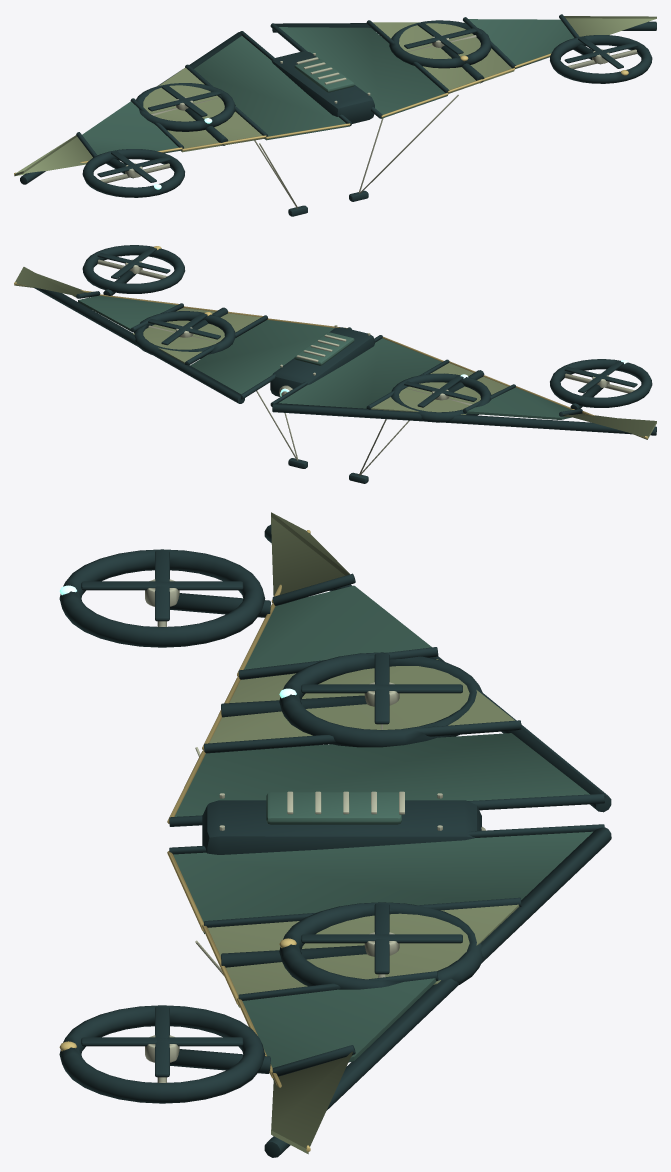
Rendered from kf-kestrel.glb.
3 renders of one model, top to bottom at view 1: azimuth 30°, elevation 25°; view 2: azimuth 150°, elevation 25°; view 3: azimuth 270°, elevation 25°, orthographic. The views are drawn at different scales.
Parts seen in each view (by area): view 1: Kestrel Kestrel paint, Kestrel Carbon frame, Kestrel Ripstop canopy, Kestrel Fasteners, Kestrel Caution stripe, Rotor_R_0 Carbon frame, Rotor_L_0 Carbon frame, Rotor_R_1 Carbon frame, Rotor_L_1 Carbon frame; view 2: Kestrel Carbon frame, Kestrel Kestrel paint, Kestrel Ripstop canopy, Kestrel Fasteners, Kestrel Caution stripe, Rotor_L_0 Carbon frame, Rotor_R_0 Carbon frame, Rotor_R_1 Carbon frame, Rotor_L_1 Carbon frame; view 3: Kestrel Kestrel paint, Kestrel Carbon frame, Kestrel Ripstop canopy, Kestrel Caution stripe, Rotor_L_0 Carbon frame, Rotor_R_0 Carbon frame, Rotor_L_1 Carbon frame, Rotor_R_1 Carbon frame, Kestrel Fasteners.
Part boxes in pixels (x1,y1,x2,y2): Kestrel Kestrel paint: [82, 19, 574, 160]; Kestrel Carbon frame: [20, 14, 656, 216]; Kestrel Ripstop canopy: [14, 16, 656, 176]; Kestrel Fasteners: [100, 35, 637, 208]; Kestrel Caution stripe: [14, 53, 628, 174]; Rotor_R_0 Carbon frame: [404, 22, 476, 54]; Rotor_L_0 Carbon frame: [148, 85, 220, 116]; Rotor_R_1 Carbon frame: [564, 37, 637, 68]; Rotor_L_1 Carbon frame: [97, 151, 170, 182]; Kestrel Carbon frame: [34, 245, 656, 483]; Kestrel Kestrel paint: [78, 295, 571, 419]; Kestrel Ripstop canopy: [14, 267, 656, 439]; Kestrel Fasteners: [97, 259, 634, 475]; Kestrel Caution stripe: [14, 246, 648, 438]; Rotor_L_0 Carbon frame: [404, 375, 476, 407]; Rotor_R_0 Carbon frame: [148, 313, 220, 345]; Rotor_R_1 Carbon frame: [97, 247, 170, 279]; Rotor_L_1 Carbon frame: [564, 361, 637, 393]; Kestrel Kestrel paint: [173, 585, 592, 1079]; Kestrel Carbon frame: [59, 524, 611, 1157]; Kestrel Ripstop canopy: [208, 512, 519, 1154]; Kestrel Caution stripe: [59, 530, 310, 1151]; Rotor_L_0 Carbon frame: [301, 653, 462, 724]; Rotor_R_0 Carbon frame: [301, 903, 462, 974]; Rotor_L_1 Carbon frame: [81, 550, 243, 621]; Rotor_R_1 Carbon frame: [81, 1006, 243, 1077]; Kestrel Fasteners: [157, 621, 485, 1082].
Size of the model in its own units: 7.35 by 1.45 by 2.76.
